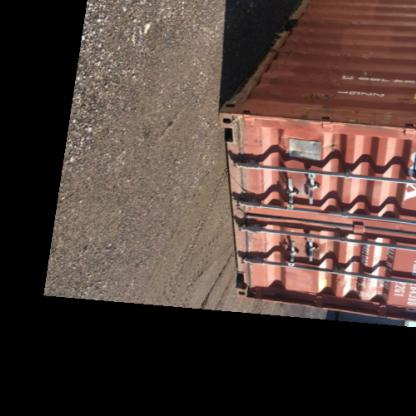Damage: (268, 16, 310, 44), (367, 106, 404, 136), (295, 84, 337, 110), (229, 111, 248, 157), (338, 101, 368, 130)
